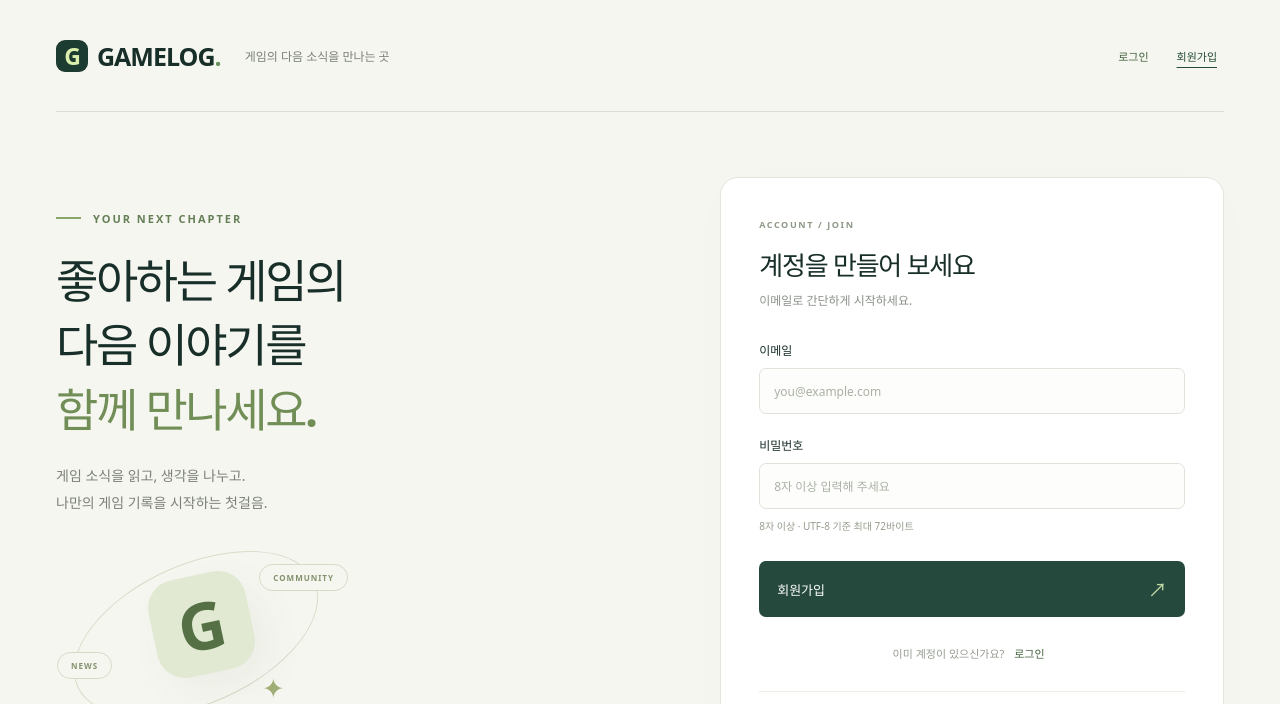
Test: authentication user flows › shows duplicate-email errors and allows retry
Step 1. Type "member@example.com" into the field labelled "이메일" → [972, 391], box [759,368,1185,414]
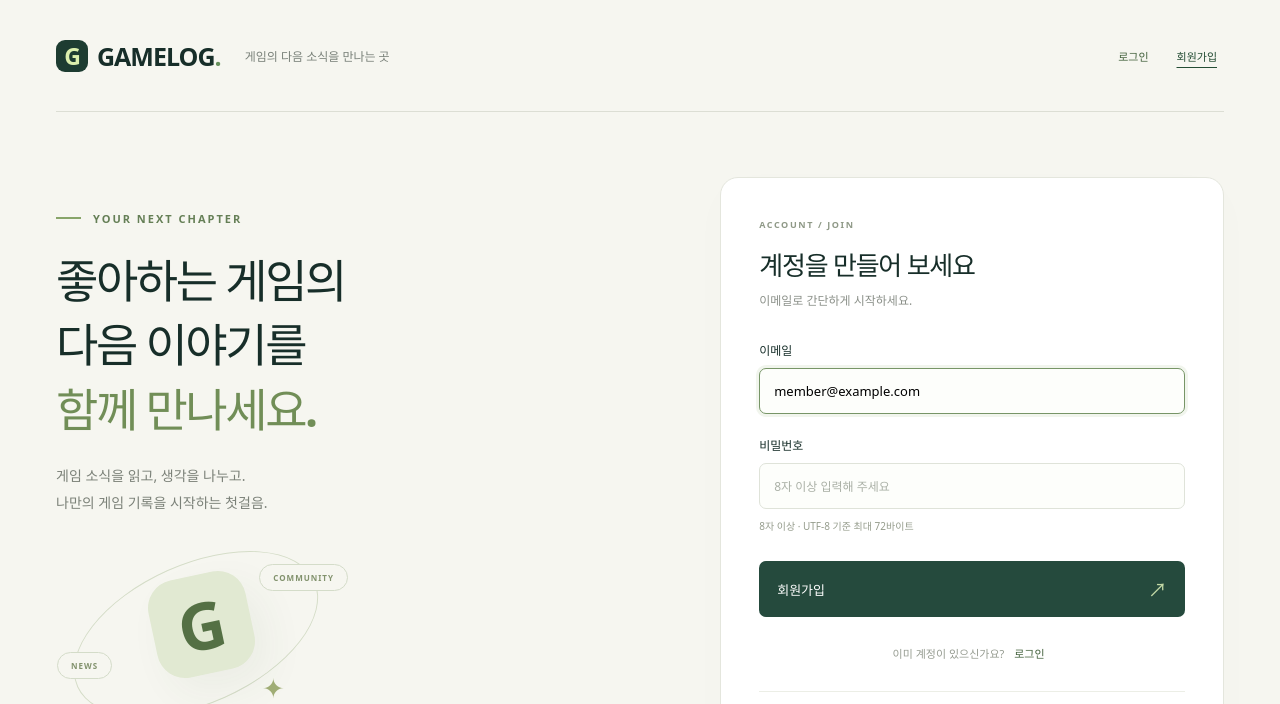
Step 2. Type "valid-password" into the password field labelled "비밀번호" → [972, 486], box [759,463,1185,509]
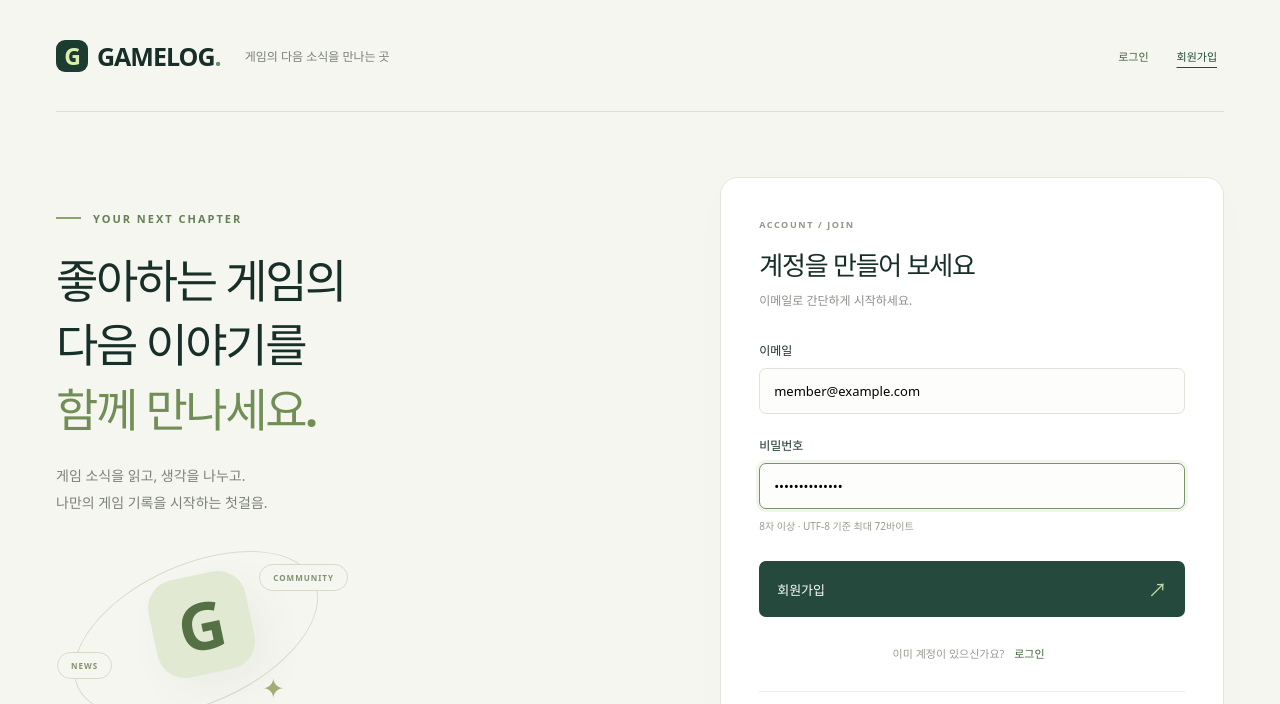
Step 3. Click the button "회원가입 ↗" → [801, 590], box [759,561,1185,617]
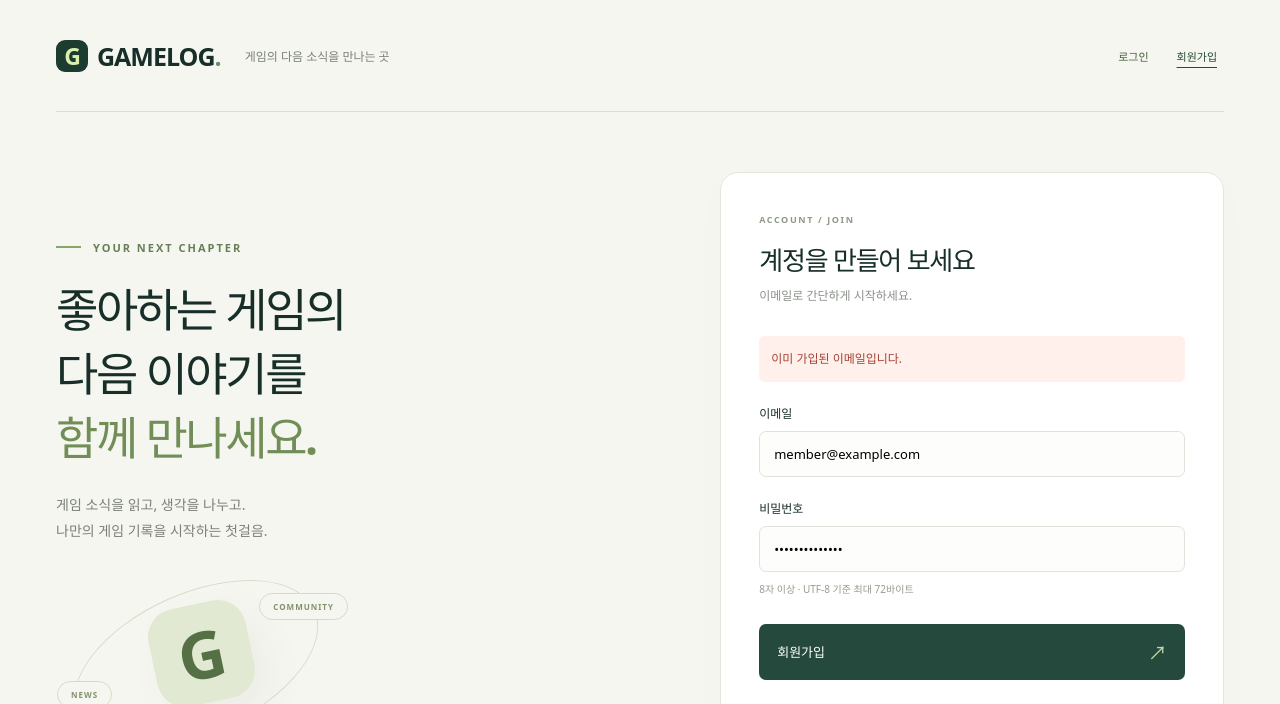
Expected: the button "회원가입 ↗" is enabled, [759,624,1185,680]
Expected: the message shows "이미 가입된 이메일", [771,350,902,367]
